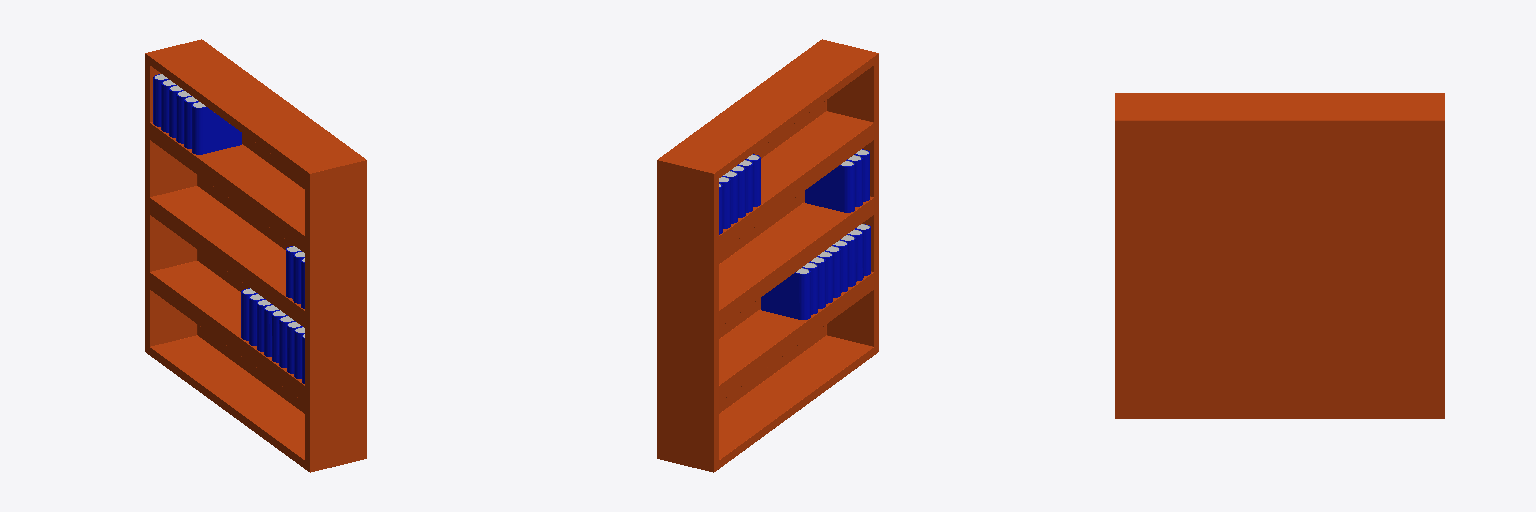
Rendered from libro.obj.
The picture shows the model from 3 angles: view 1: azimuth 30°, elevation 25°; view 2: azimuth 150°, elevation 25°; view 3: azimuth 270°, elevation 25°; orthographic projection.
Parts seen in each view (by area): view 1: Librero; view 2: Librero; view 3: Librero.
Part boxes in pixels (x1,y1,x2,y2): Librero: (145, 39, 366, 472); Librero: (657, 39, 878, 472); Librero: (1115, 93, 1444, 418).
Bounding box in the file's own units: 0.67 × 3.35 × 3.35.